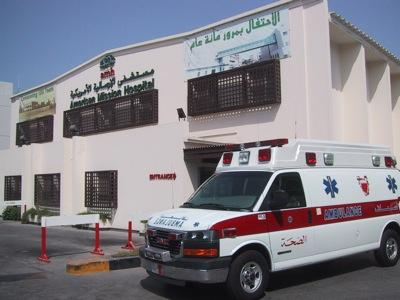ambulance_off: (137, 139, 400, 298)
